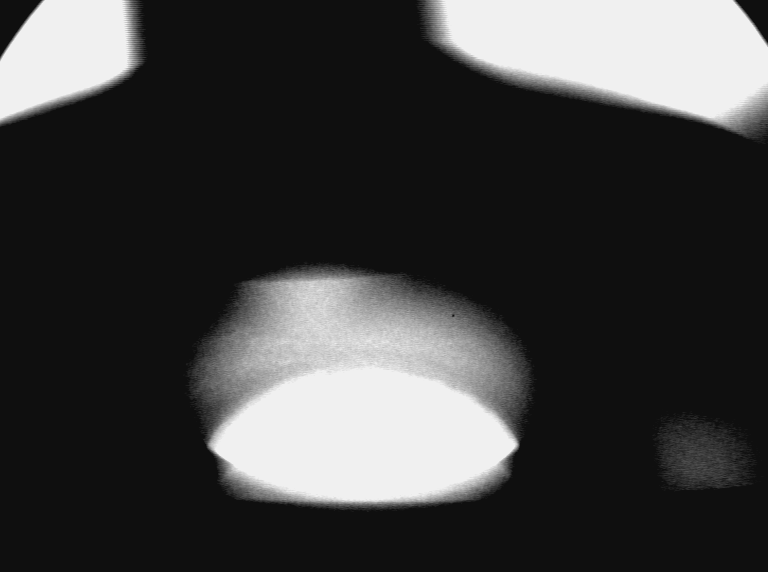defect: (164, 324, 324, 405)
